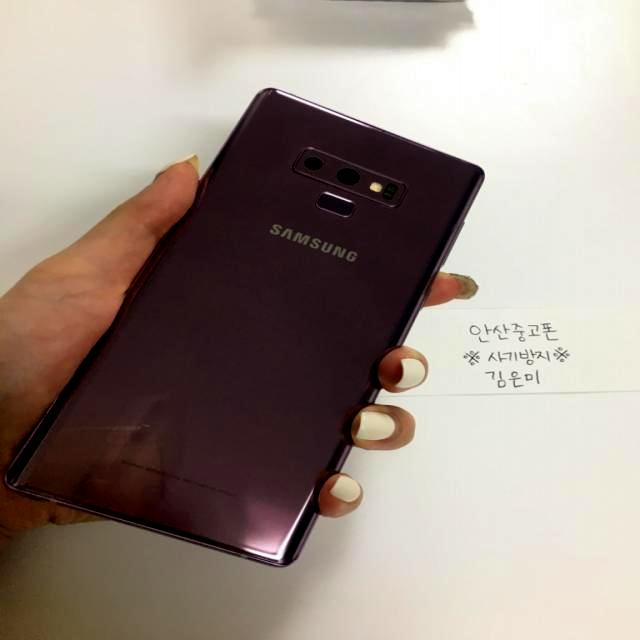lens_back: (337, 166, 360, 186)
phone: (8, 87, 483, 567)
